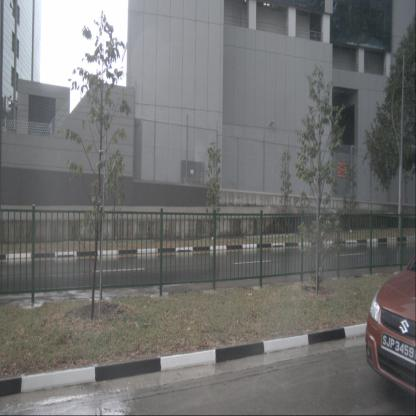vehicle-car: (365, 230, 416, 405)
